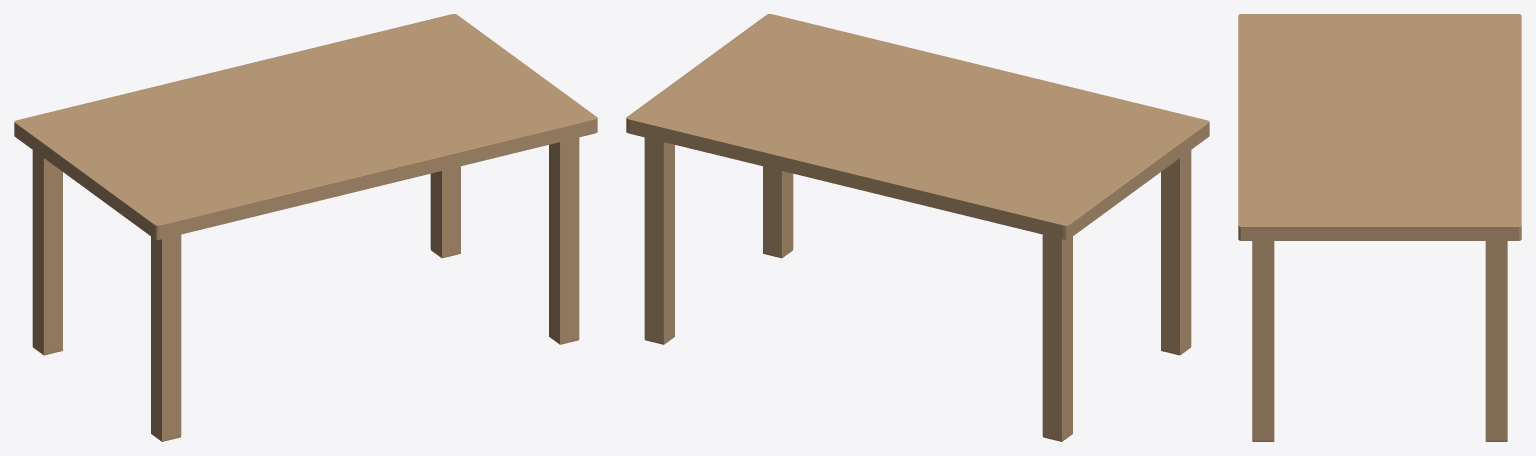
The model's file is mesa.glb.
The picture shows the model from 3 angles, left to right: view 1: azimuth 30°, elevation 25°; view 2: azimuth 150°, elevation 25°; view 3: azimuth 270°, elevation 25°; orthographic projection.
Parts seen in each view (by area): view 1: Tablero, Pata 1, Pata 2, Pata 3, Pata 4; view 2: Tablero, Pata 3, Pata 4, Pata 1, Pata 2; view 3: Tablero, Pata 2, Pata 4.
Part boxes in pixels (<box>): Tablero: <box>14,14,597,239</box>; Pata 1: <box>151,234,181,441</box>; Pata 2: <box>549,137,579,344</box>; Pata 3: <box>32,150,62,355</box>; Pata 4: <box>430,166,460,258</box>; Tablero: <box>626,14,1209,239</box>; Pata 3: <box>1042,234,1072,441</box>; Pata 4: <box>644,137,674,344</box>; Pata 1: <box>1161,150,1191,355</box>; Pata 2: <box>763,166,793,258</box>; Tablero: <box>1238,14,1521,240</box>; Pata 2: <box>1252,241,1274,441</box>; Pata 4: <box>1485,241,1507,441</box>.
Bounding box in the file's own units: 1.6 × 0.775 × 0.9.
